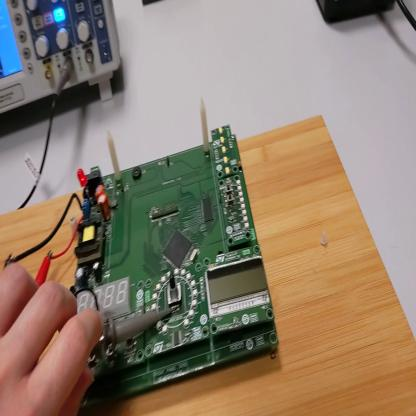hand: (2, 267, 105, 416)
low voltage board: (11, 98, 280, 409)
oscilloscope: (2, 2, 126, 118)
oscilloscope probe tip: (91, 309, 170, 355)
welder station: (318, 2, 396, 22)
working area: (1, 115, 415, 412)
